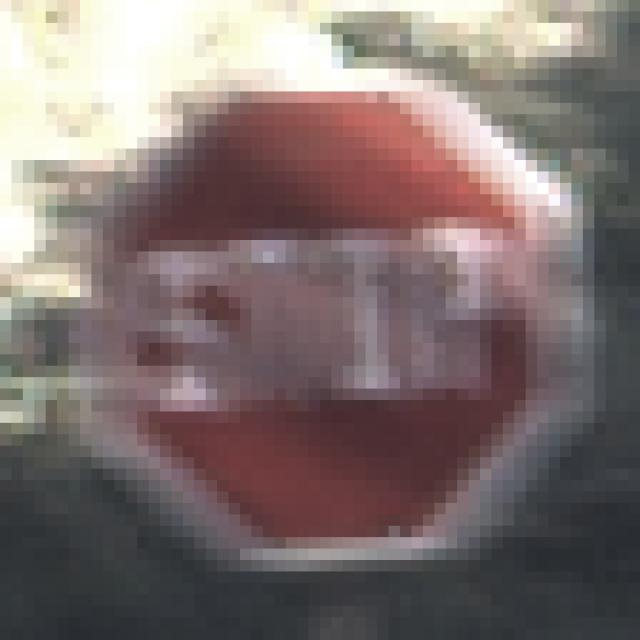STOP: (70, 58, 573, 573)
